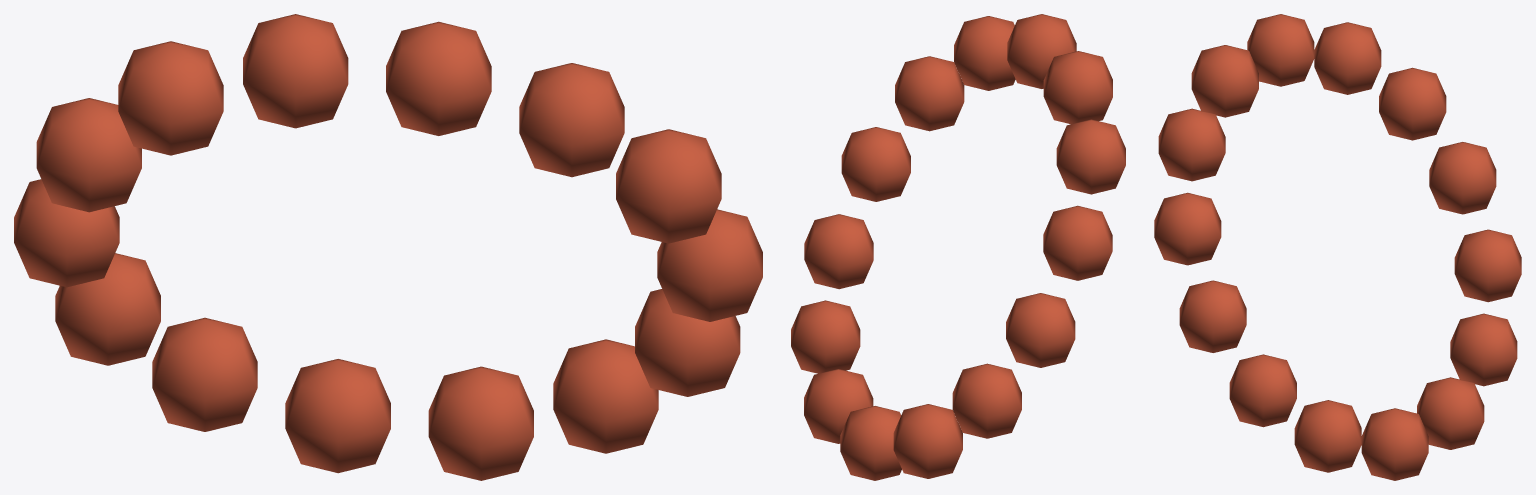
The model's file is coral_bracelet_m.glb.
3 renders of one model, left to right at view 1: azimuth 30°, elevation 25°; view 2: azimuth 150°, elevation 25°; view 3: azimuth 270°, elevation 25°, orthographic. The views are drawn at different scales.
Parts seen in each view (by area): view 1: hair; view 2: hair; view 3: hair.
Boxes of the visible parts, x1=… form: hair: x1=14, y1=14, x2=762, y2=480; hair: x1=791, y1=14, x2=1125, y2=480; hair: x1=1154, y1=14, x2=1521, y2=480.
Bounding box in the file's own units: 0.0778 × 0.0756 × 0.0664.
